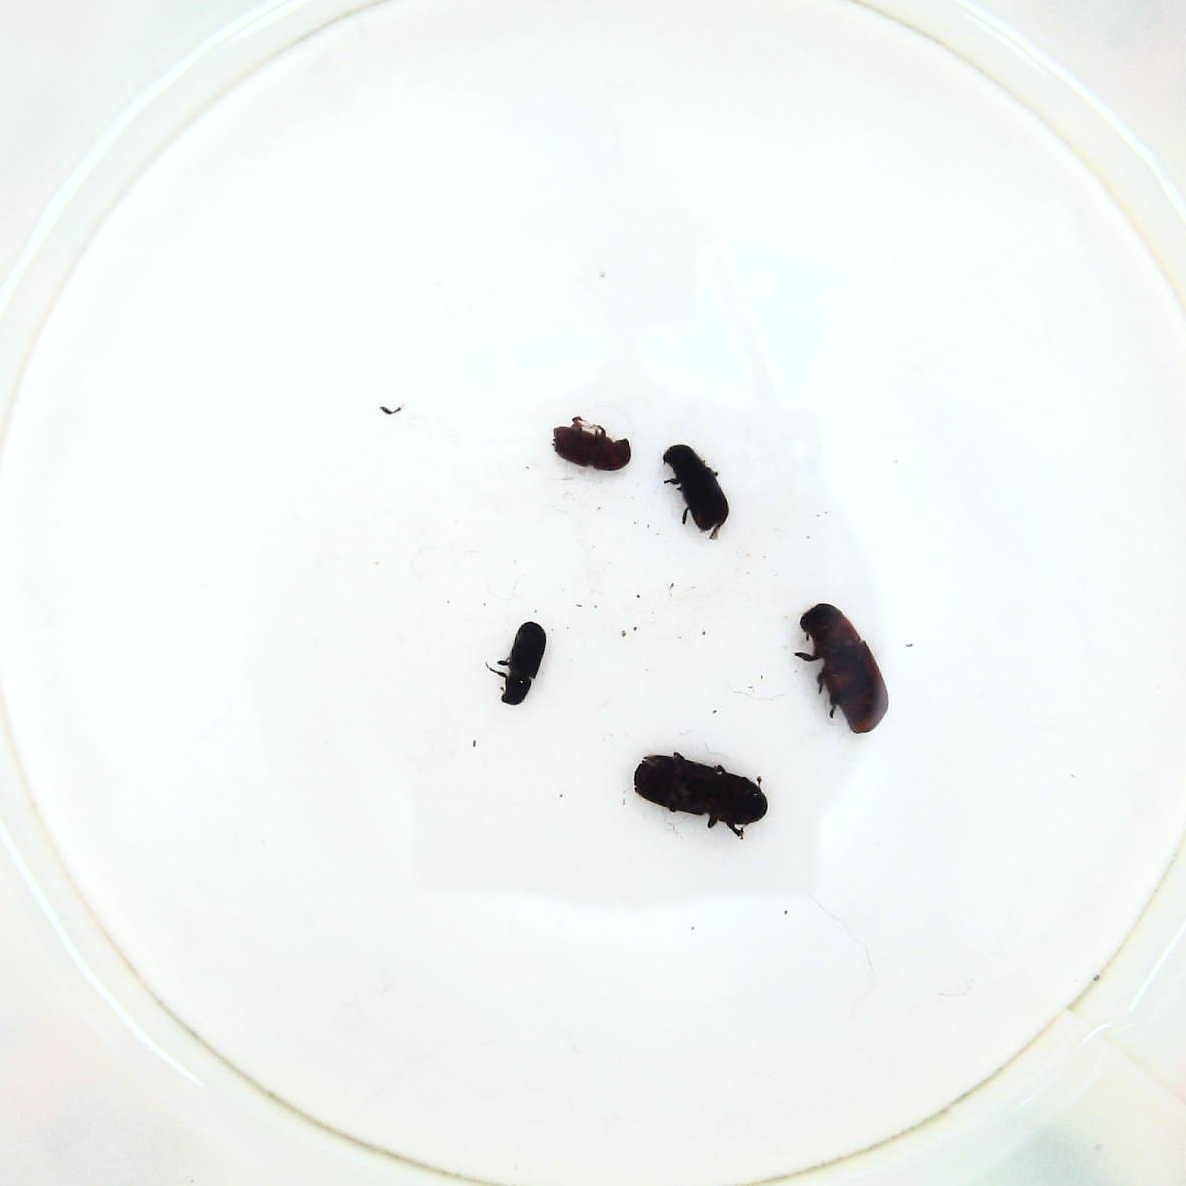Boerner: (628, 752, 774, 842)
Leconte: (791, 603, 896, 740)
armandi: (655, 440, 733, 542)
coleoptera: (485, 623, 550, 708)
linnaeus: (547, 413, 630, 476)
